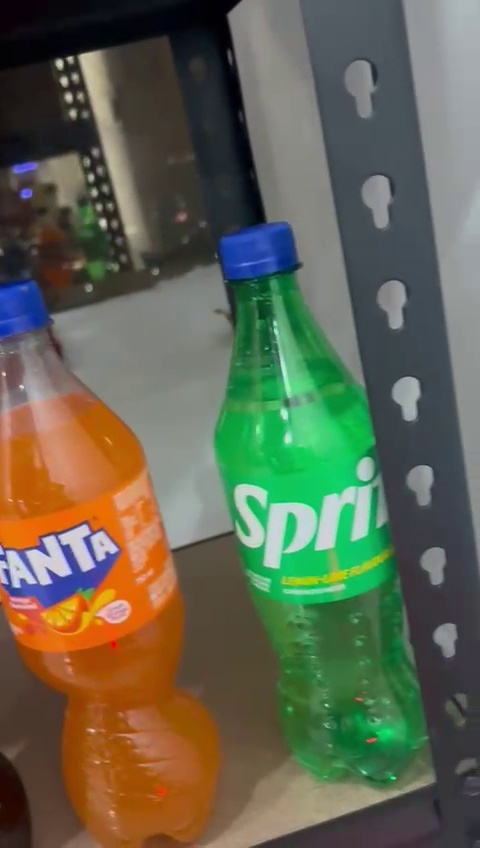Sprit: (201, 219, 431, 796)
